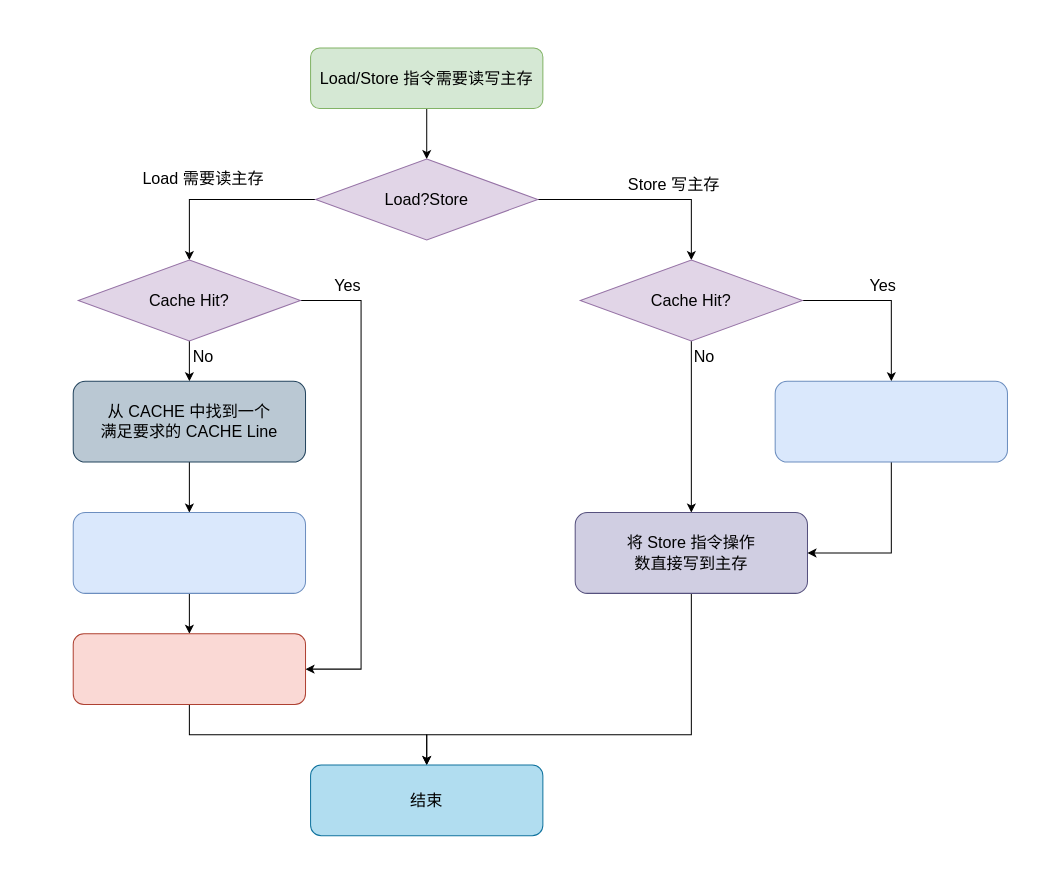
Some shapes in this 1054 by 883 pixel diagram are drawn without their labels. The shapes that lost their labels are listed below. From the top down, each one's centre as x and y in pixels, then its label:
(890,421): 将 Store 指令操作数 写到 CACHE
(189,552): 从主存读取 Data Block 到 选中的 CACHE Line 中
(189,668): 将所需的数据返回给 Load 指令
